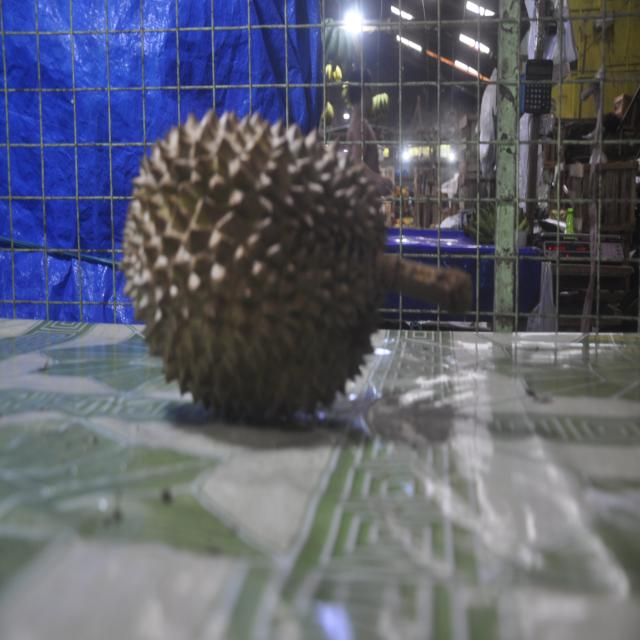mature: (120, 110, 471, 420)
